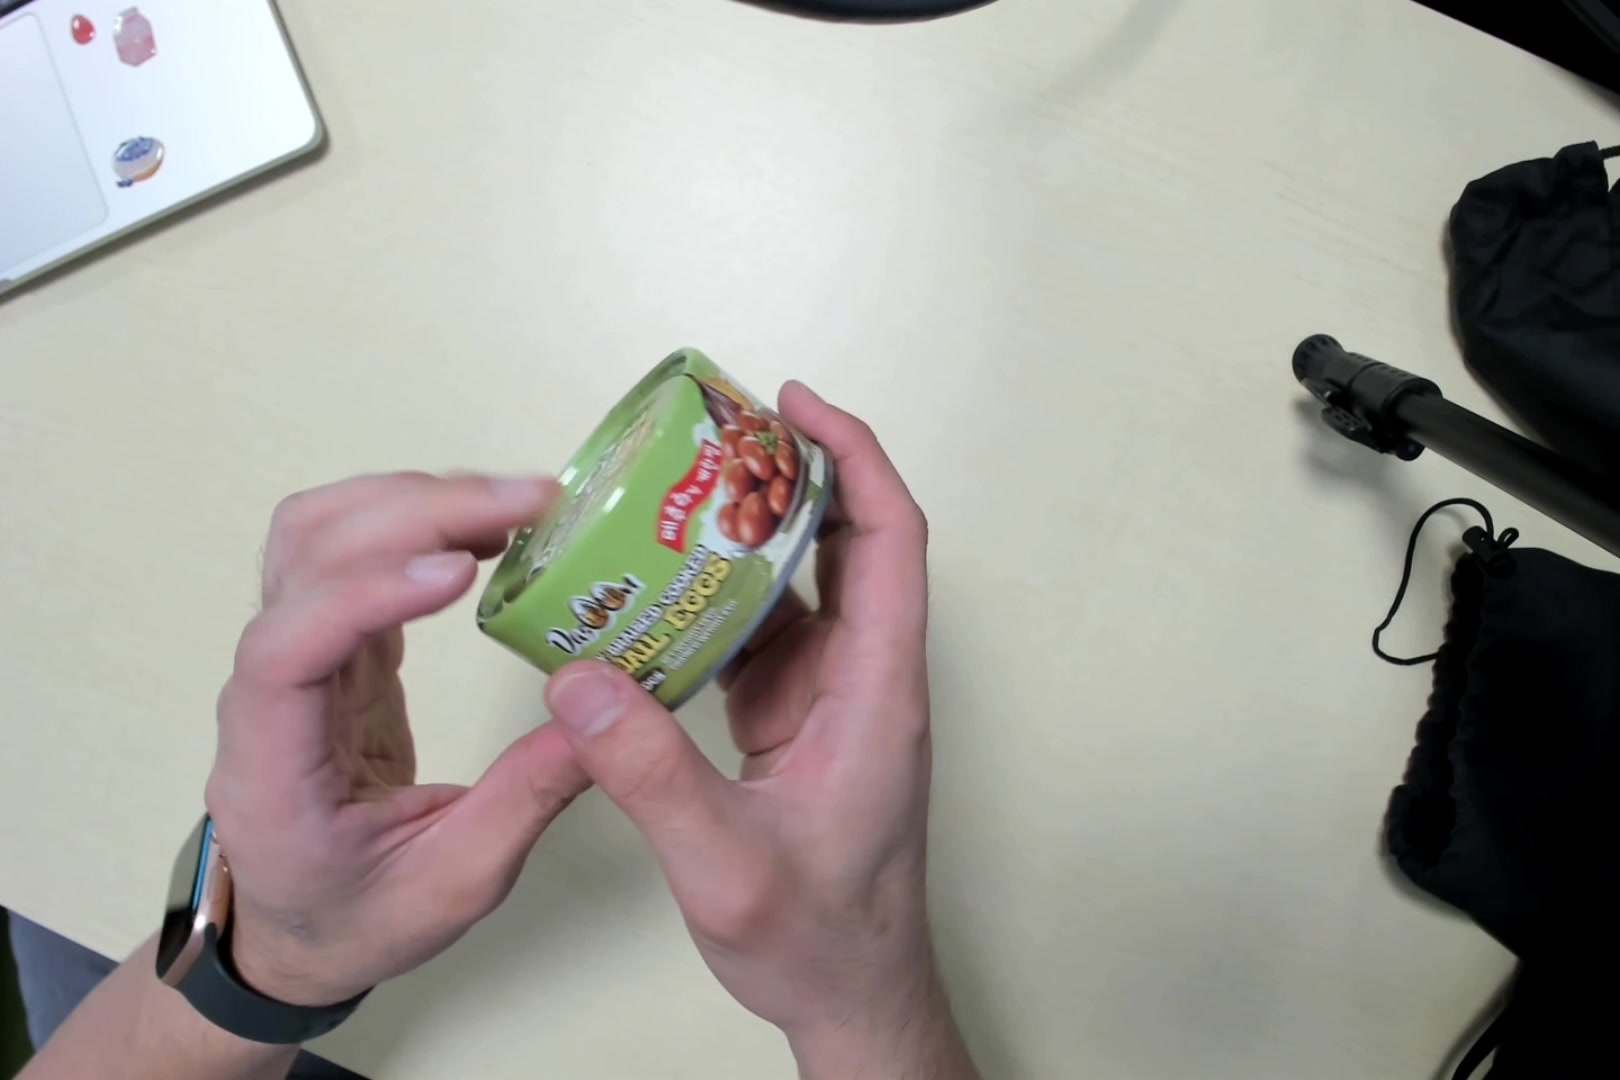CannedPorkLunchronMeat_100-199g_NonHalal_NonHealthy: (483, 345, 826, 711)
